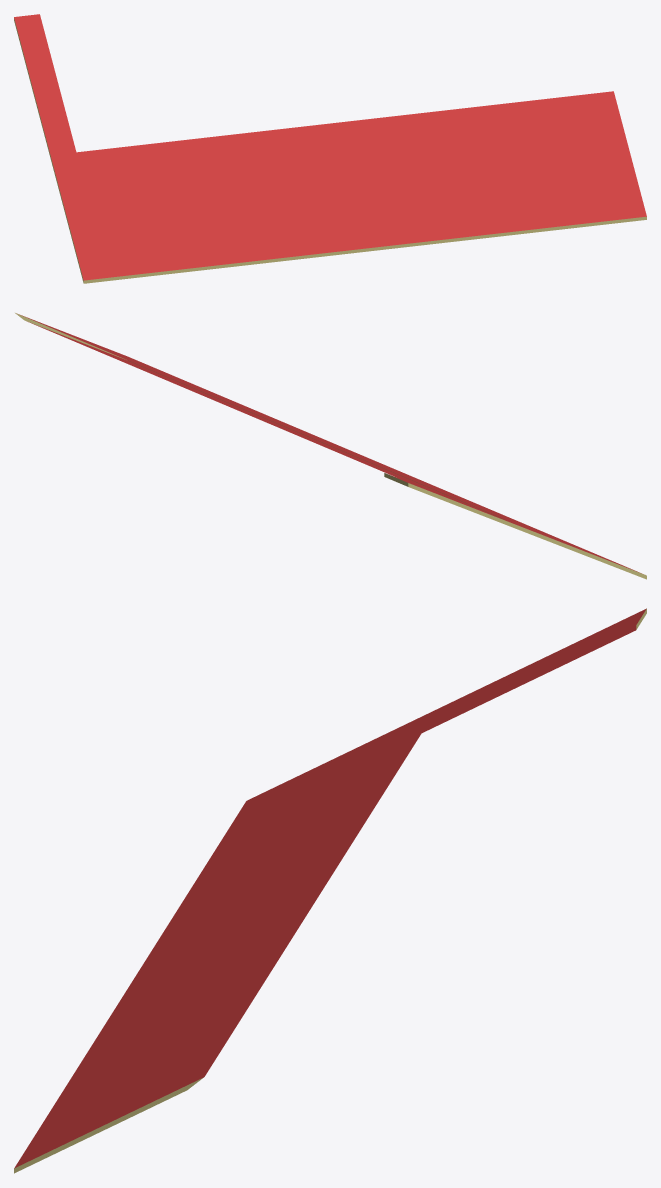
3 renders of one model, top to bottom at view 1: azimuth 30°, elevation 25°; view 2: azimuth 150°, elevation 25°; view 3: azimuth 270°, elevation 25°, orthographic. The views are drawn at different scales.
Size of the model in its own units: 16.68 by 11.46 by 4.85.
